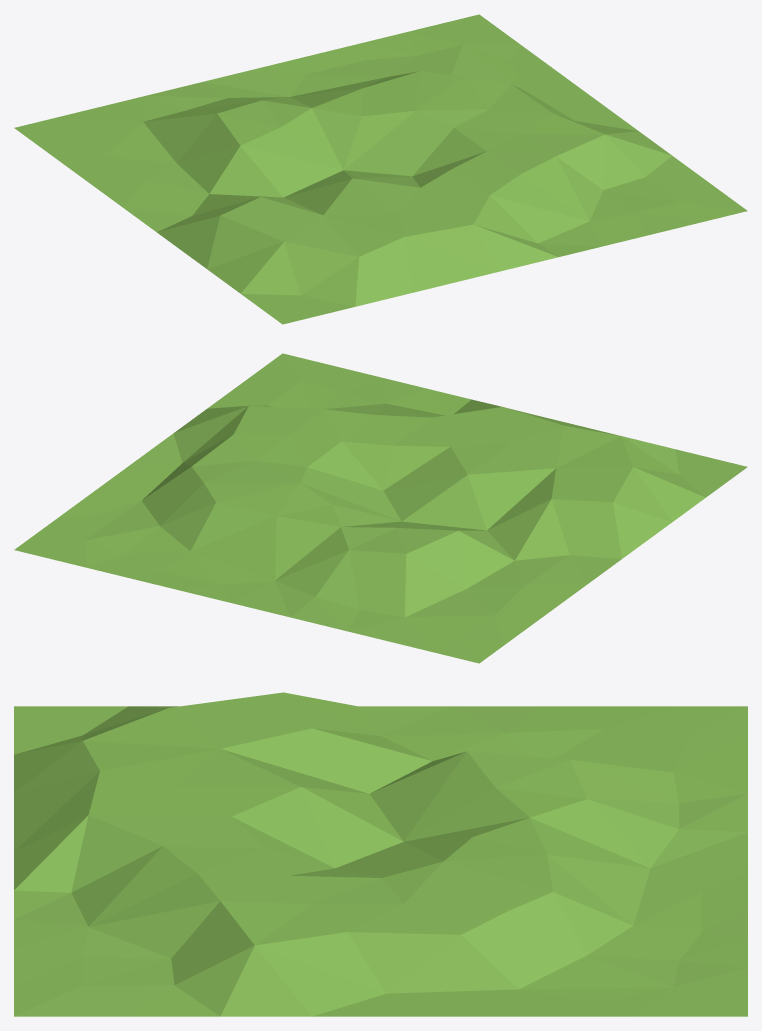
The model's file is MT_Terrain_S_c_28.fbx.
3 views of the same model, one above another, from view 1: azimuth 30°, elevation 25°; view 2: azimuth 150°, elevation 25°; view 3: azimuth 270°, elevation 25° (orthographic). The views are drawn at different scales.
Parts seen in each view (by area): view 1: MT_Terrain_S_c_28; view 2: MT_Terrain_S_c_28; view 3: MT_Terrain_S_c_28.
Boxes of the visible parts, x1=… form: MT_Terrain_S_c_28: x1=14, y1=14, x2=747, y2=324; MT_Terrain_S_c_28: x1=14, y1=353, x2=747, y2=663; MT_Terrain_S_c_28: x1=14, y1=692, x2=747, y2=1016.
Bounding box in the file's own units: 2500 × 154 × 2500.
